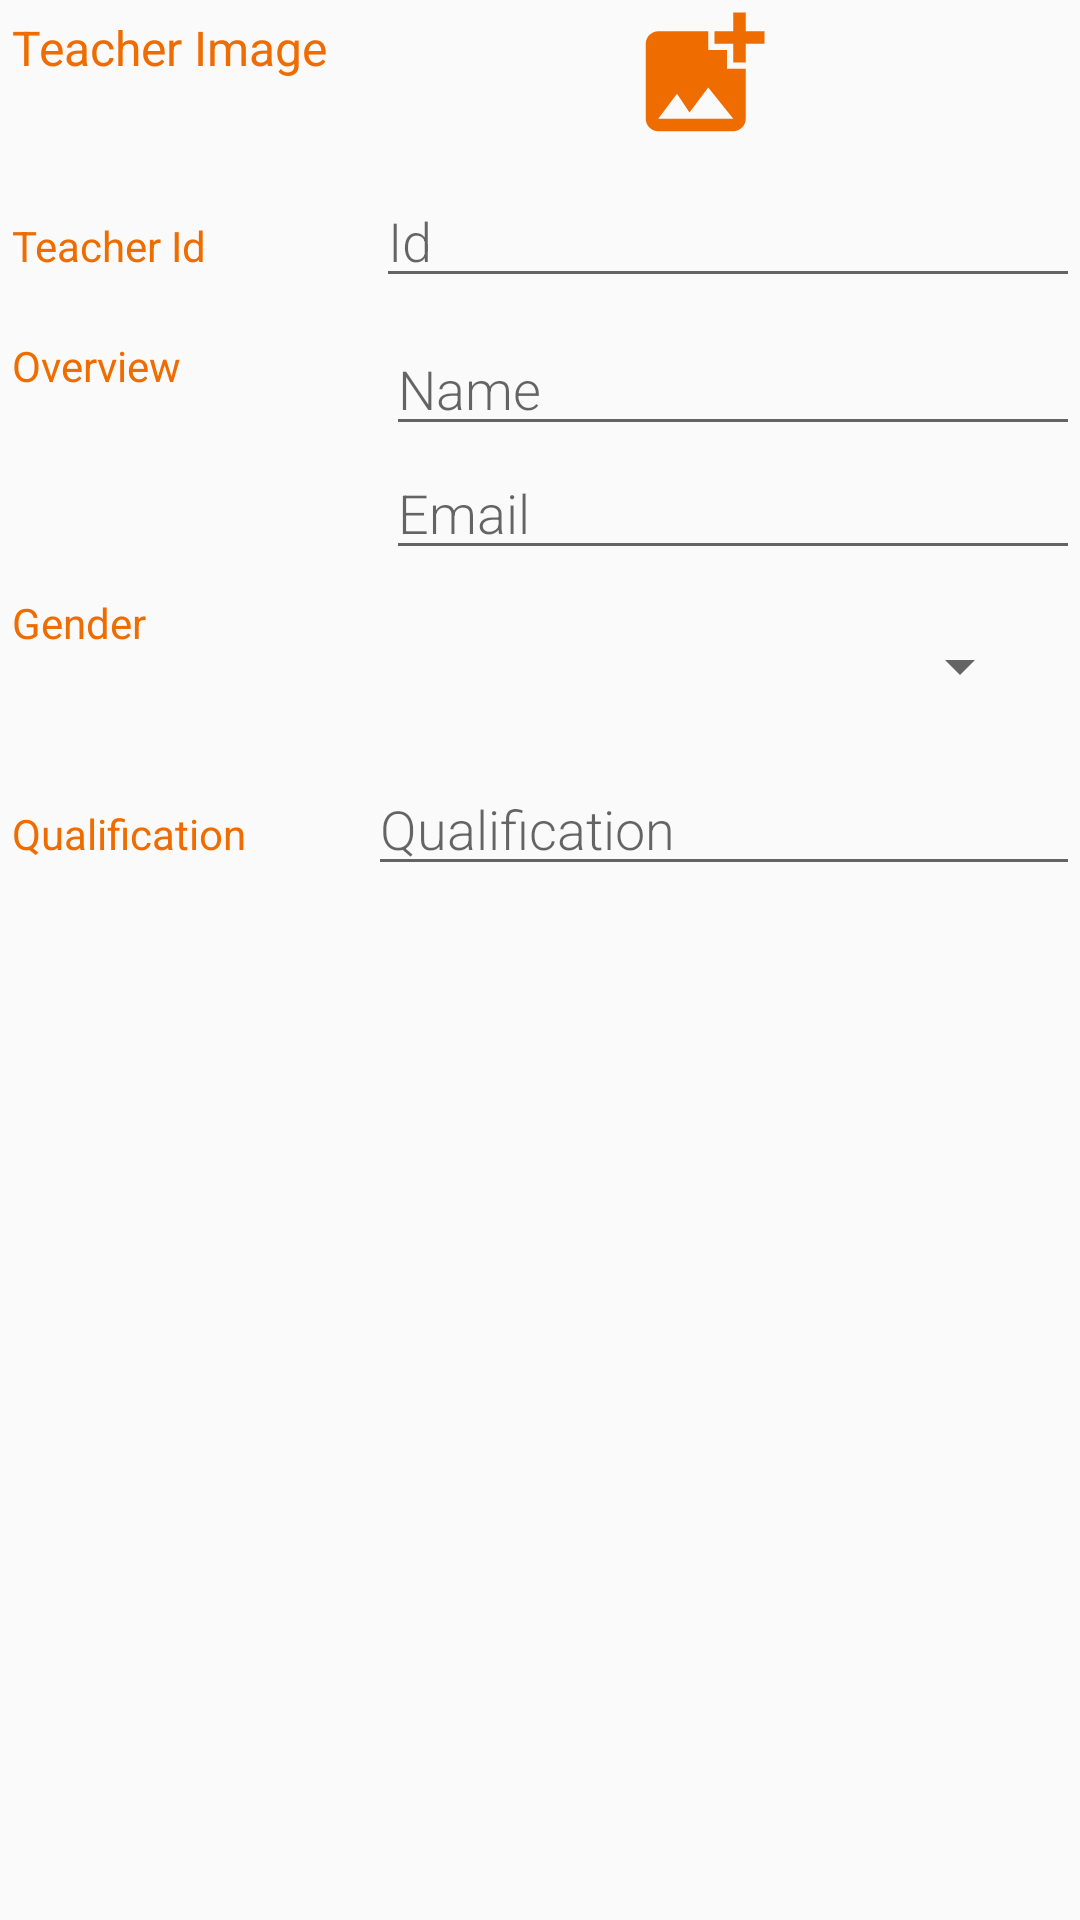

Icons on this 1080x1920 Android screen, each with its box as (x1, y1, x2, y2):
Adding Teacher Image: (645, 12, 765, 132)
